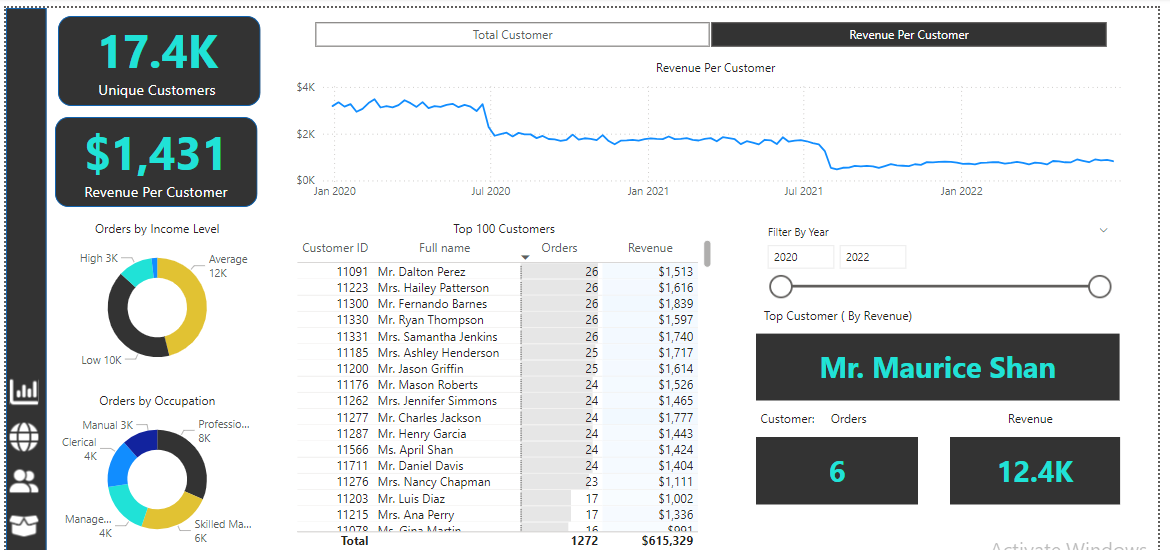

This screenshot's page, from the dashboard's own definition file:
{"tool":"powerbi","page":{"name":"Customer Details","canvas":[1280,720],"ordinal":2},"visuals":[{"type":"shape","title":"Left Nav Bar","box":[0,0,45,618.8],"z":0},{"type":"actionButton","box":[0,406.2,45,40],"z":0,"group":"g1"},{"type":"shape","box":[57.5,8.8,225,100],"z":1000},{"type":"actionButton","box":[0,455.8,45,40],"z":1000,"group":"g1"},{"type":"actionButton","box":[0,505.4,45,40],"z":2000,"group":"g1"},{"type":"shape","box":[54.6,121.2,225,100],"z":2000},{"type":"card","title":"Unique cx card","fields":{"Values":["Measure Table.Total Customer"]},"box":[42.8,4.4,248.8,103.8],"z":3000},{"type":"actionButton","box":[0,555,45,40],"z":3000,"group":"g1"},{"type":"card","title":"Revenue Per cx card","fields":{"Values":["Measure Table.Average Revenue Per Customer"]},"box":[42.5,117.5,248.8,103.8],"z":4000},{"type":"lineChart","fields":{"Y":["Measure Table.Revenue Per Customer"],"Category":["Calendar Lookup.Start of Week"]},"box":[317.5,56.2,941.2,165],"z":5000},{"type":"tableEx","title":"Top 100 Customers","fields":{"Values":["Customer Lookup.CustomerKey","Customer Lookup.Full name","Measure Table.Total Orders","Measure Table.Total Revenue"]},"box":[317.5,235,471.2,368.8],"z":6000},{"type":"card","fields":{"Values":["Customer Lookup.Full Name (Customer Detail)"]},"box":[833.8,361.5,403.8,75],"z":7000},{"type":"card","fields":{"Values":["Measure Table.Total Revenue (customer detail)"]},"box":[1048.8,476.5,188.8,75],"z":8000},{"type":"card","fields":{"Values":["Measure Table.Total orders (customer detail)"]},"box":[833.8,476.5,180,75],"z":9000},{"type":"textbox","box":[833.8,327.7,403.8,33.8],"z":10000},{"type":"textbox","box":[833.8,442.7,403.8,33.8],"z":11000},{"type":"donutChart","title":"Orders by Income Level","fields":{"Category":["Customer Lookup.Income Level"],"Y":["Measure Table.Total Orders"]},"box":[55,235,225,177.5],"z":12000},{"type":"donutChart","title":"Orders by Occupation","fields":{"Y":["Measure Table.Total Orders"],"Category":["Customer Lookup.Occupation"]},"box":[55,426.2,225,177.5],"z":13000},{"type":"slicer","fields":{"Values":["Calendar Lookup.Year"]},"box":[833.8,235,403.8,88.8],"z":14000},{"type":"group","id":"g1","title":"Page Navigation ","box":[0,406.2,45,188.8],"z":15000},{"type":"slicer","fields":{"Values":["Customer Metric Selection.Customer Metric Selection"]},"box":[317.5,8.8,928.8,36.2],"z":16000}]}

Visuals, with their boxes on the page's 1280x720 design canvas (x1, y1, x2, y2). These are canvas units, not pixel positions in the 1170x550 screenshot, which may show the page scaled, cropped or inside an application window:
"Left Nav Bar" shape: x1=0, y1=0, x2=45, y2=619
actionButton: x1=0, y1=406, x2=45, y2=446
shape: x1=58, y1=9, x2=282, y2=109
actionButton: x1=0, y1=456, x2=45, y2=496
actionButton: x1=0, y1=505, x2=45, y2=545
shape: x1=55, y1=121, x2=280, y2=221
"Unique cx card" card: x1=43, y1=4, x2=292, y2=108
actionButton: x1=0, y1=555, x2=45, y2=595
"Revenue Per cx card" card: x1=42, y1=118, x2=291, y2=221
lineChart - Measure Table.Revenue Per Customer x Calendar Lookup.Start of Week: x1=318, y1=56, x2=1259, y2=221
"Top 100 Customers" tableEx: x1=318, y1=235, x2=789, y2=604
card - Customer Lookup.Full Name (Customer Detail): x1=834, y1=362, x2=1238, y2=436
card - Measure Table.Total Revenue (customer detail): x1=1049, y1=476, x2=1238, y2=552
card - Measure Table.Total orders (customer detail): x1=834, y1=476, x2=1014, y2=552
textbox: x1=834, y1=328, x2=1238, y2=362
textbox: x1=834, y1=443, x2=1238, y2=476
"Orders by Income Level" donutChart: x1=55, y1=235, x2=280, y2=412
"Orders by Occupation" donutChart: x1=55, y1=426, x2=280, y2=604
slicer - Calendar Lookup.Year: x1=834, y1=235, x2=1238, y2=324
"Page Navigation " group: x1=0, y1=406, x2=45, y2=595
slicer - Customer Metric Selection.Customer Metric Selection: x1=318, y1=9, x2=1246, y2=45
